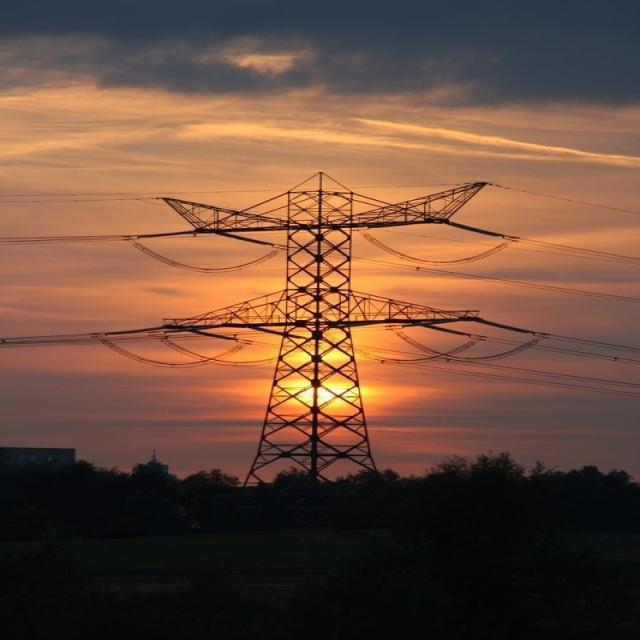non-critical vegetation: (170, 175, 460, 475)
